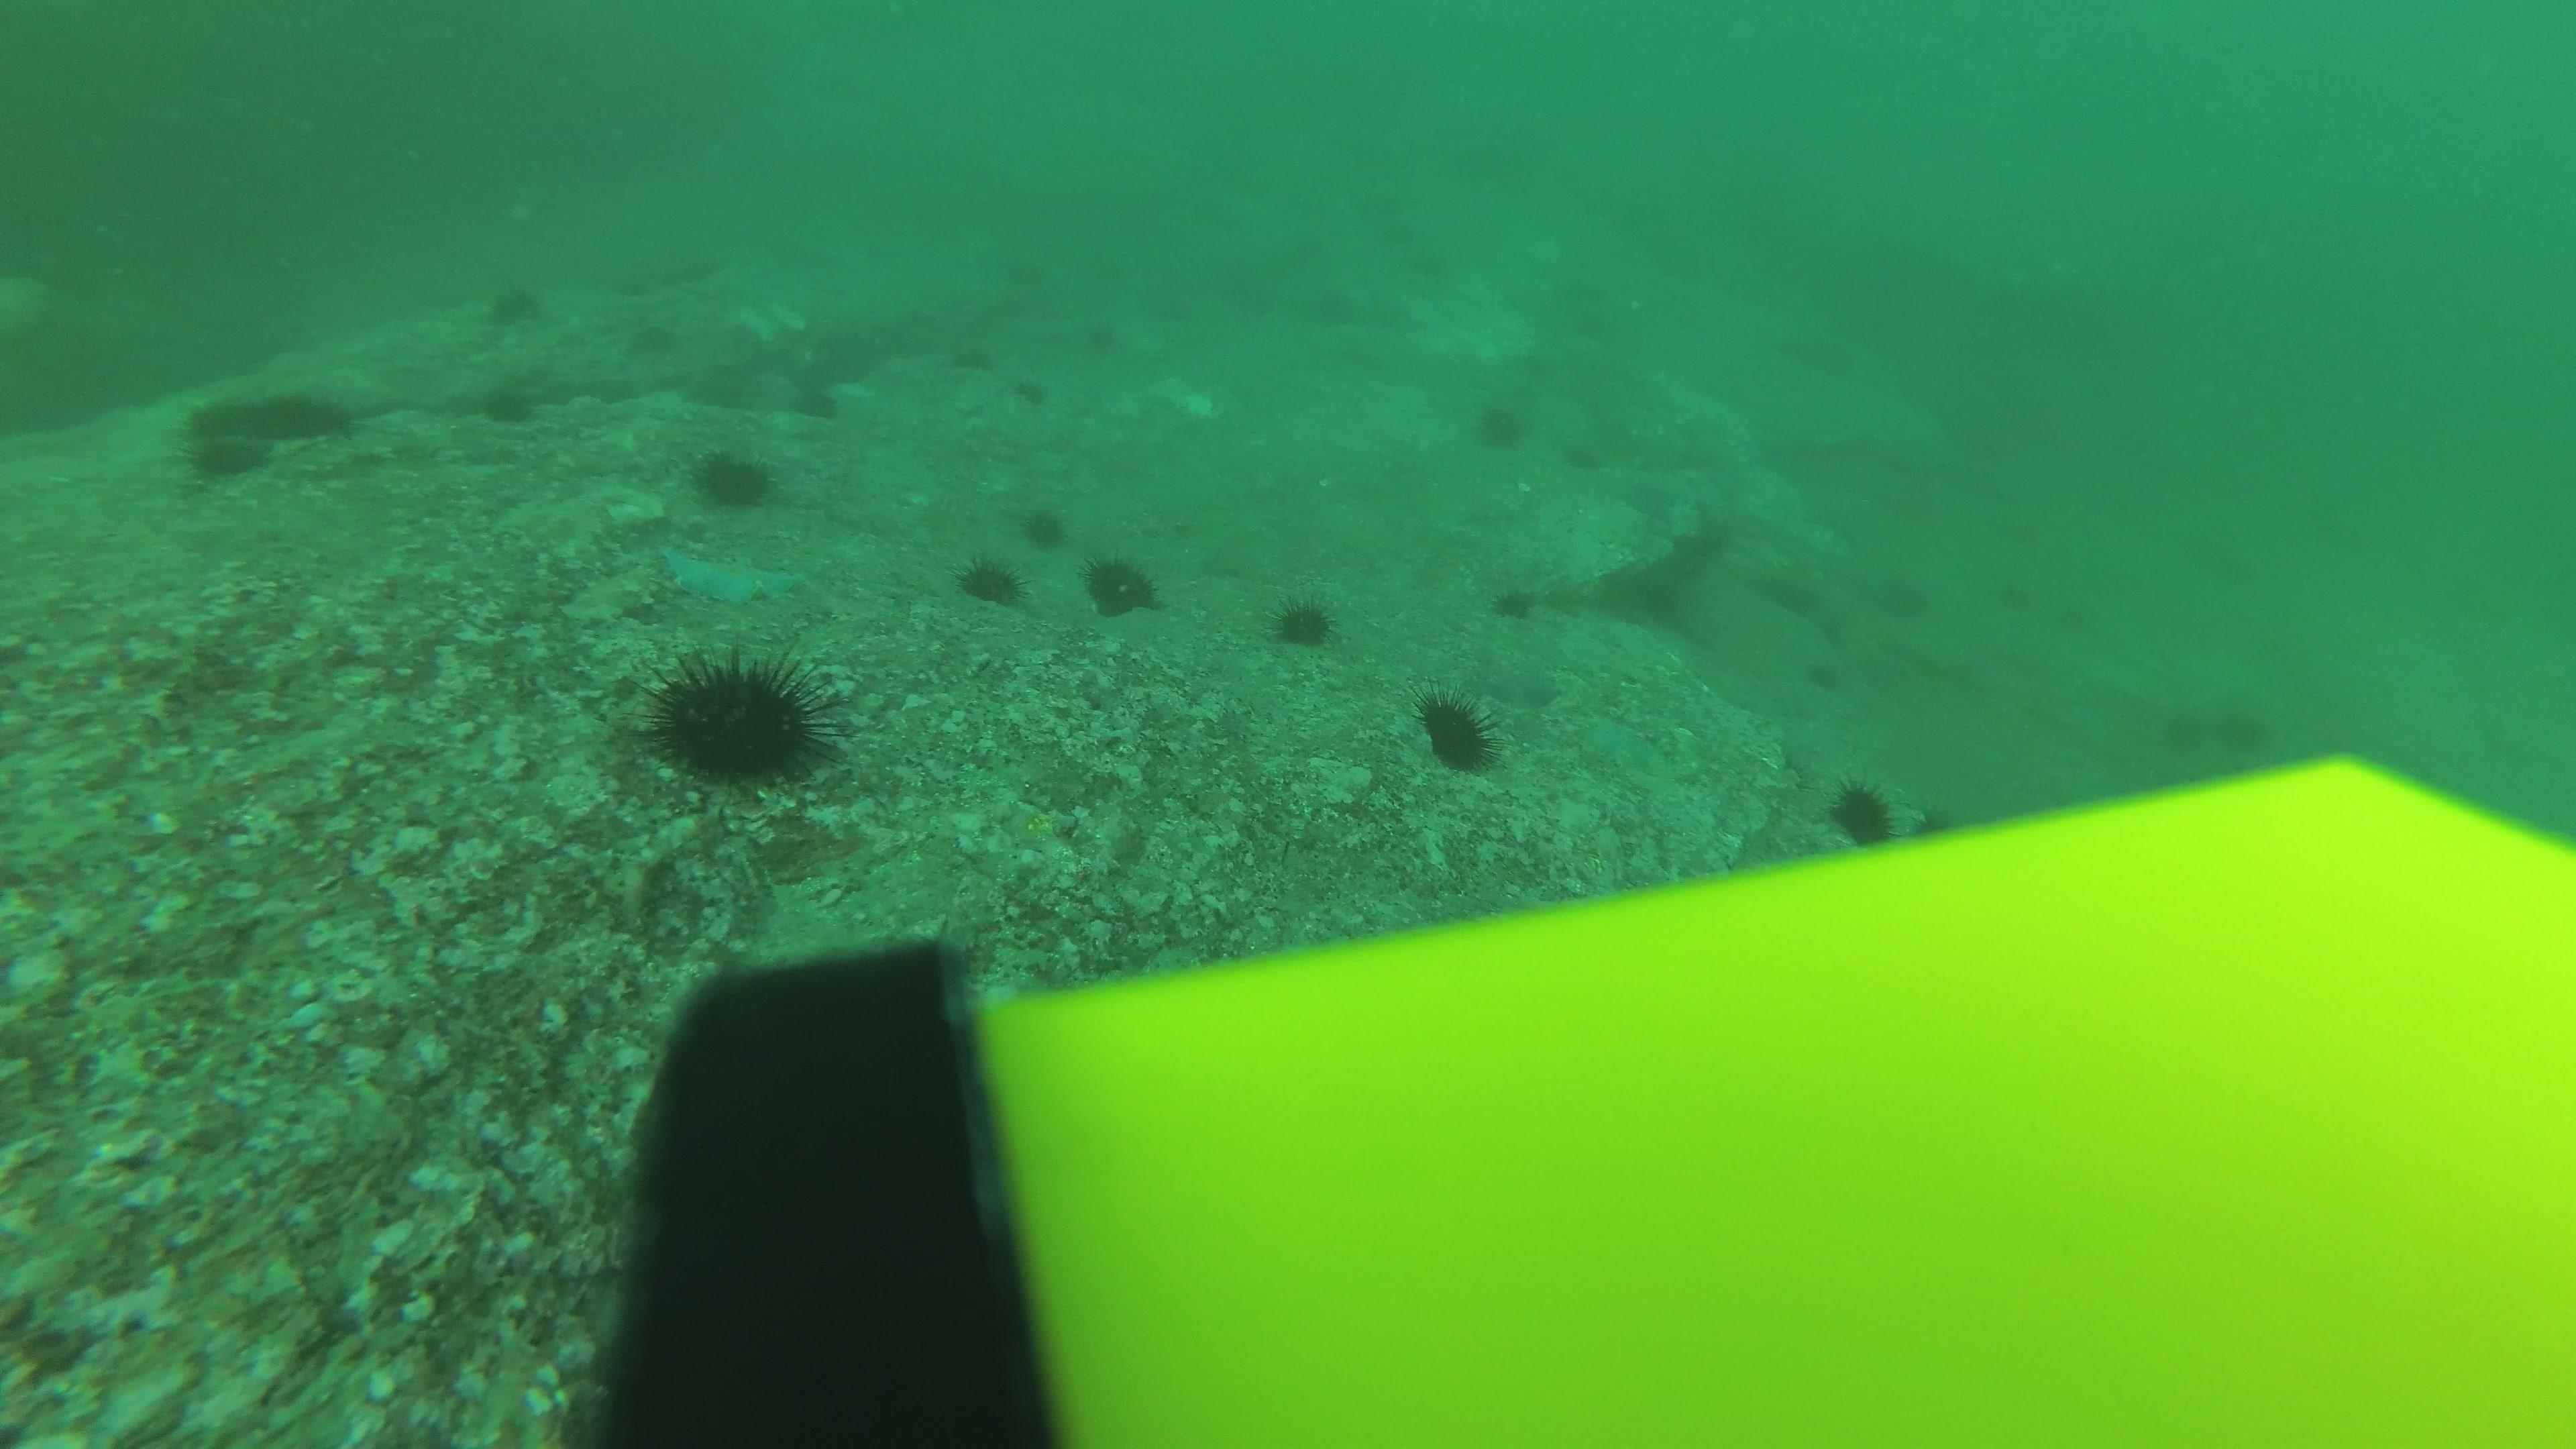echinus: (644, 649, 833, 789), (1415, 688, 1500, 775), (692, 441, 777, 511), (1826, 775, 1902, 847), (262, 382, 354, 441), (1083, 550, 1161, 617), (1269, 589, 1338, 651), (177, 437, 269, 481), (180, 382, 249, 439), (1470, 395, 1530, 455), (957, 552, 1023, 607), (479, 375, 541, 428), (485, 280, 543, 327), (1143, 292, 1196, 341), (1231, 272, 1284, 322), (1304, 281, 1357, 331), (1513, 334, 1566, 384), (1552, 430, 1605, 479), (1778, 570, 1831, 619), (1987, 564, 2040, 614), (2196, 533, 2249, 582), (2220, 702, 2273, 752), (791, 375, 844, 423), (950, 331, 1003, 379), (1005, 366, 1058, 414), (1401, 249, 1454, 297), (1375, 214, 1428, 262), (1560, 306, 1614, 354), (1790, 649, 1844, 697), (1888, 571, 1941, 619), (1810, 603, 1863, 651), (2024, 580, 2077, 628), (2151, 706, 2204, 754), (1907, 803, 1960, 851), (1072, 306, 1123, 354), (1488, 579, 1537, 625), (1019, 502, 1065, 550)
starfish: (656, 538, 803, 609), (1573, 708, 1672, 782), (991, 793, 1083, 855), (1465, 658, 1566, 711)
